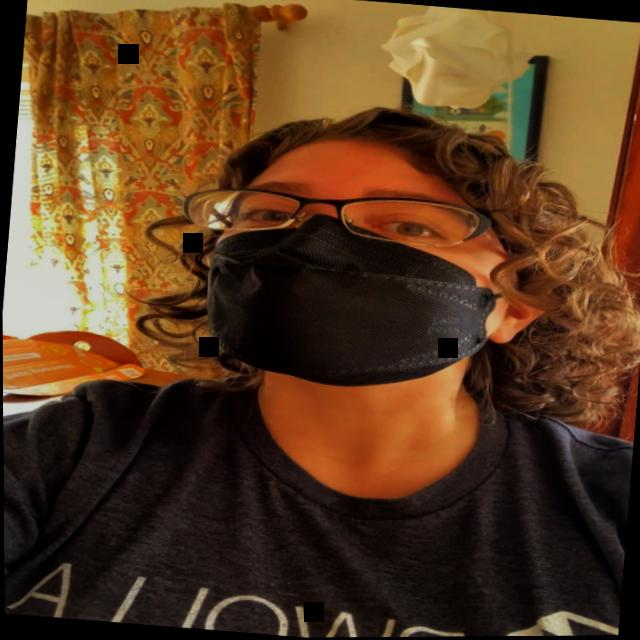Mask: (194, 129, 534, 402)
